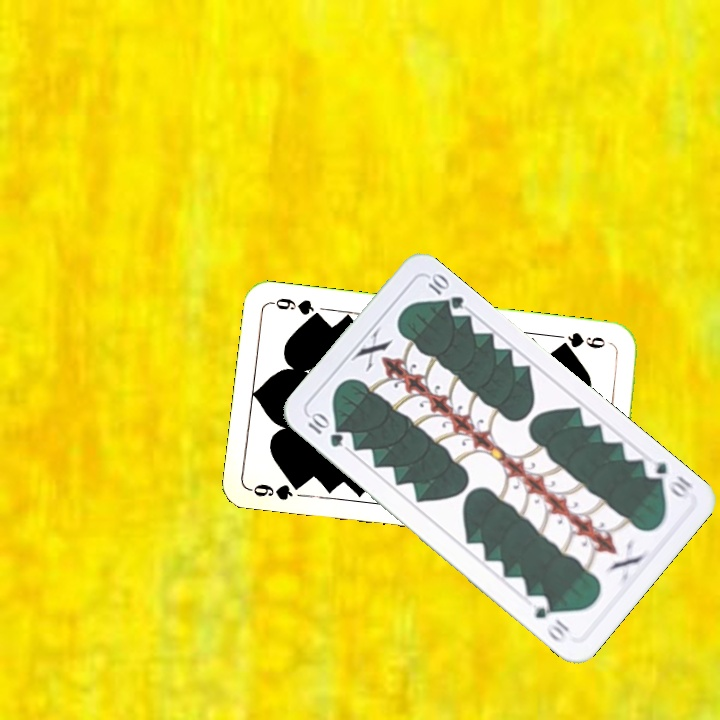G10: (639, 454, 696, 503), (303, 409, 346, 450)
G9: (246, 477, 307, 503), (555, 328, 608, 351)
